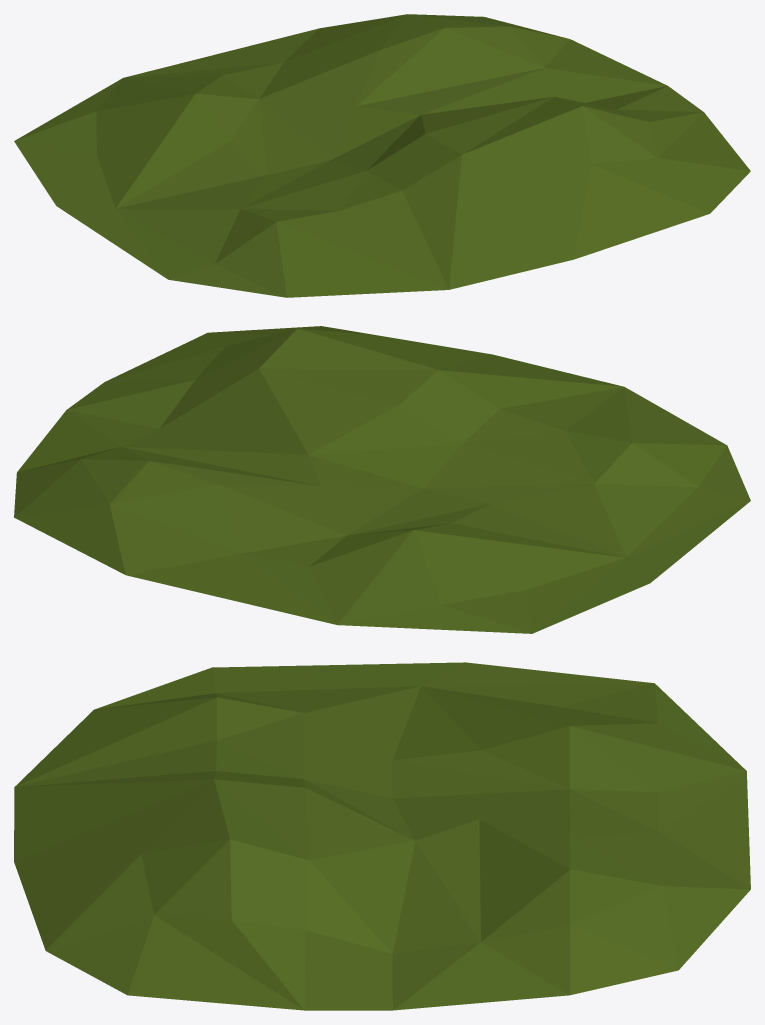
Rendered from TB_Env_LowMoundCir_A.FBX.
3 views of the same model, one above another, from view 1: azimuth 30°, elevation 25°; view 2: azimuth 150°, elevation 25°; view 3: azimuth 270°, elevation 25° (orthographic). The views are drawn at different scales.
Visible parts, largest first — view 1: TB_Env_LowMoundCir_A; view 2: TB_Env_LowMoundCir_A; view 3: TB_Env_LowMoundCir_A.
Boxes of the visible parts, left/top/right/bottom form: TB_Env_LowMoundCir_A: left=14, top=14, right=750, bottom=297; TB_Env_LowMoundCir_A: left=14, top=326, right=750, bottom=633; TB_Env_LowMoundCir_A: left=14, top=662, right=750, bottom=1010.
Size of the model in its own units: 13.97 by 1.5 by 12.5.
